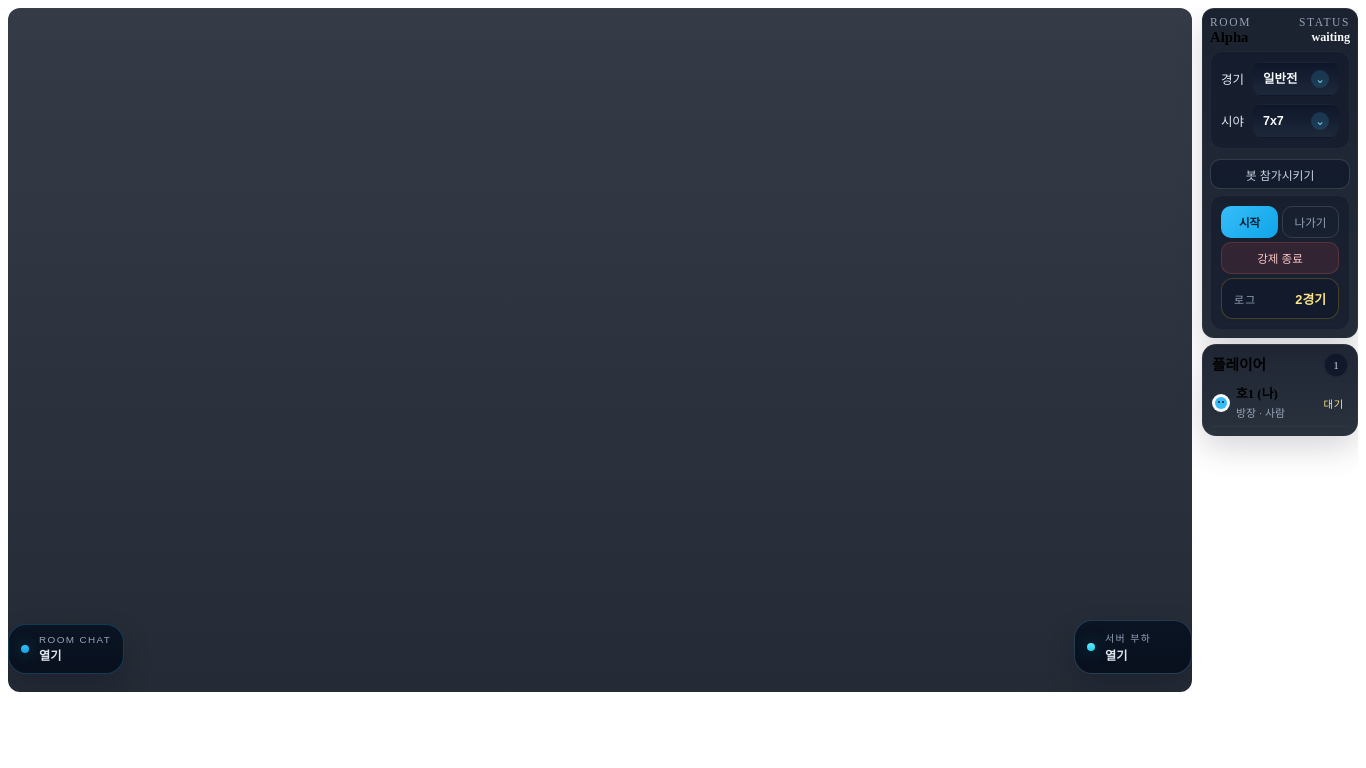
Test: GameScreen keyboard control › opens the race history sheet from the room header when logs are available
What coordinates should you click on to do the following:
click the button with test id "results-history-toggle"
I would click on:
 (1280, 299)
Its box is [1221, 278, 1339, 320].
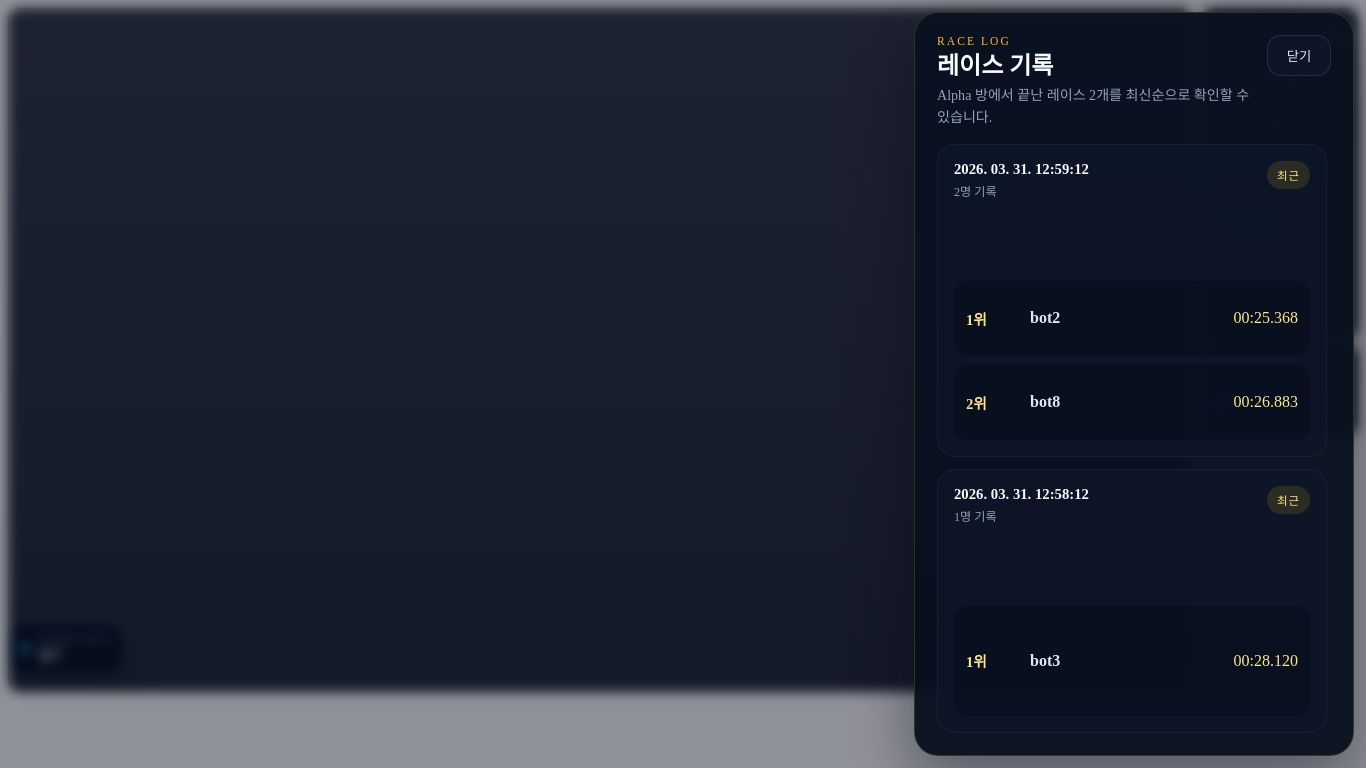
Result: the dialog with test id "results-history-panel" shows "bot2" at [1030, 310, 1060, 326]
Result: the dialog with test id "results-history-panel" shows "00:25.368" at [1234, 310, 1298, 326]
